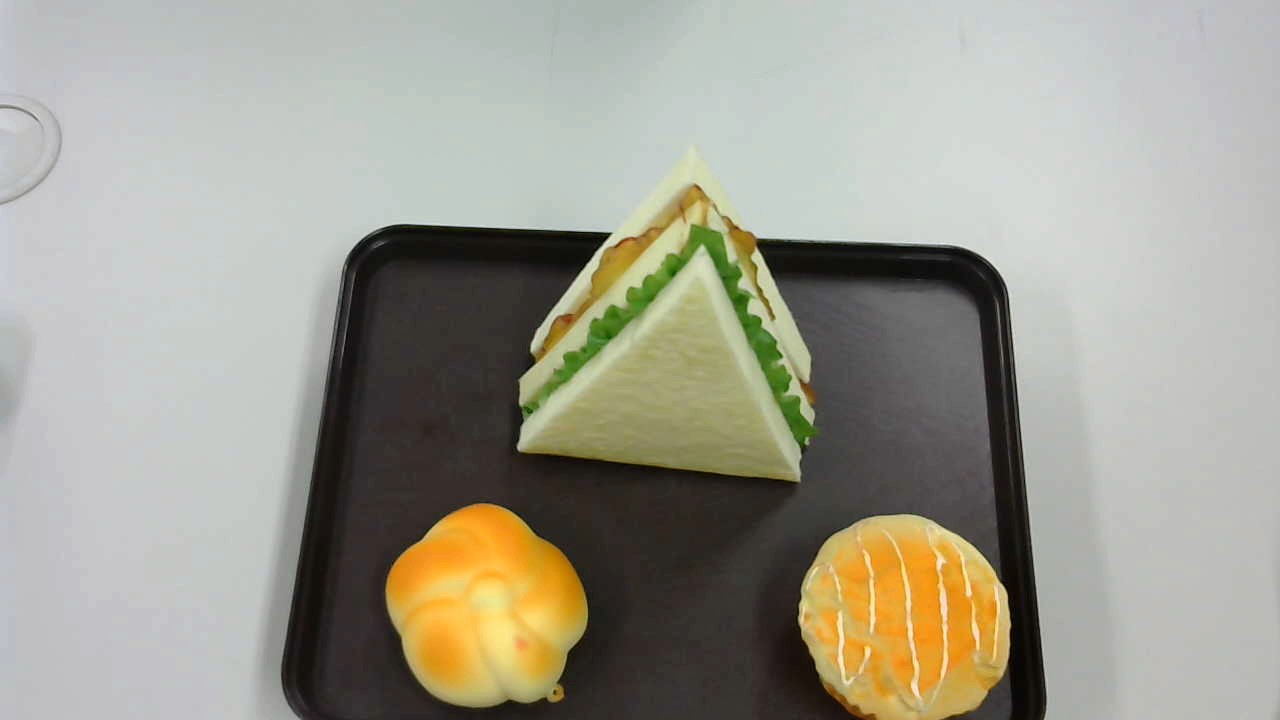cupcake: (798, 511, 1011, 720)
sandwich: (515, 148, 817, 484)
twist bread: (384, 504, 587, 707)
